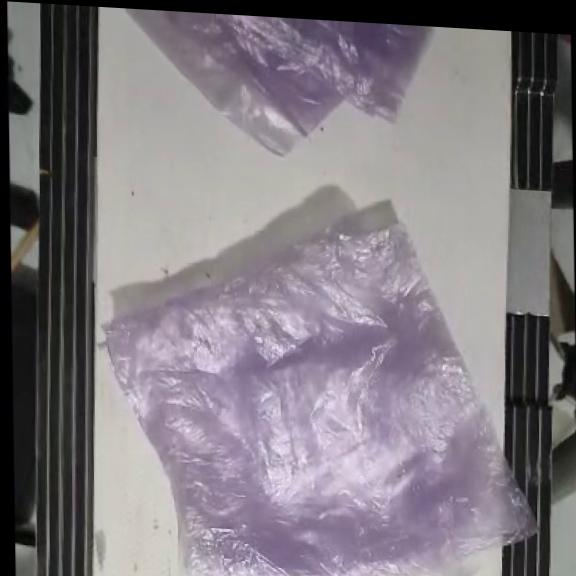Plastik: (97, 205, 543, 576), (125, 7, 436, 166)
